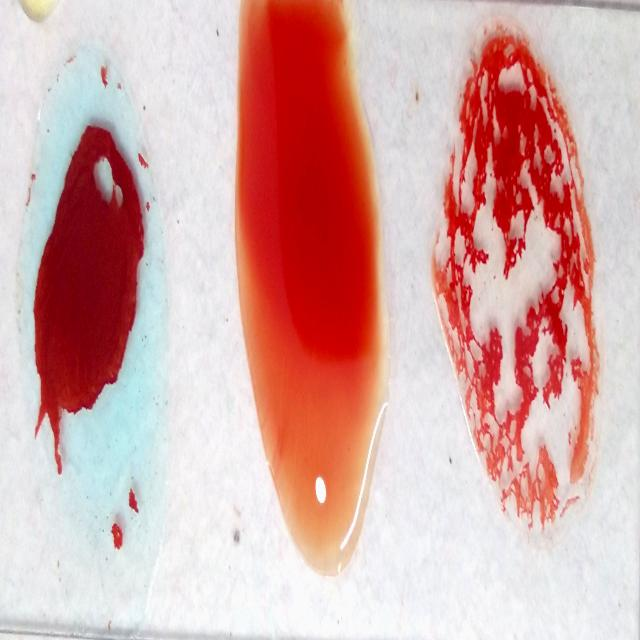A: (22, 56, 163, 598)
D: (441, 39, 601, 528)
